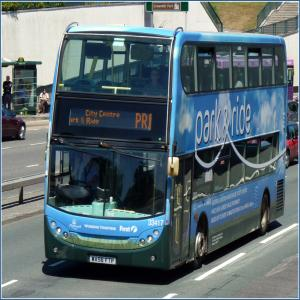Vehicle-registration-plate: (91, 256, 117, 267)
